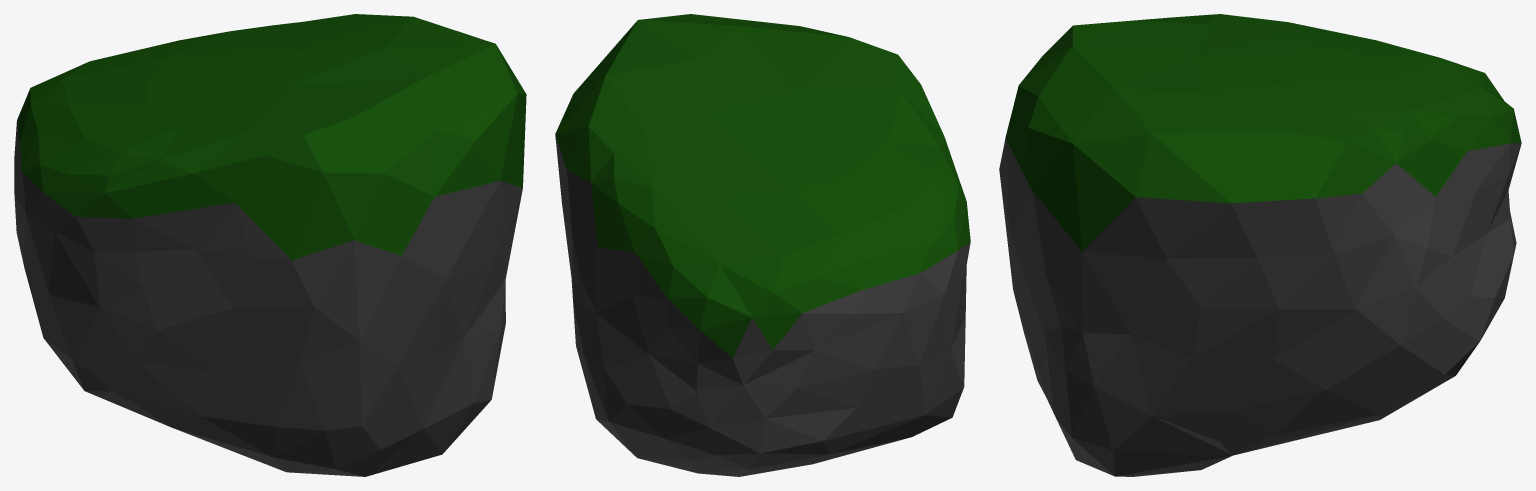
The model's file is HighLandRock4.fbx.
The picture shows the model from 3 angles, left to right: view 1: azimuth 30°, elevation 25°; view 2: azimuth 150°, elevation 25°; view 3: azimuth 270°, elevation 25°; orthographic projection. The views are drawn at different scales.
Parts seen in each view (by area): view 1: HighLandRock4_LOD0; view 2: HighLandRock4_LOD0; view 3: HighLandRock4_LOD0.
Part boxes in pixels (box(x1,y1,x2,y2)): HighLandRock4_LOD0: box(14, 14, 526, 476); HighLandRock4_LOD0: box(555, 14, 970, 476); HighLandRock4_LOD0: box(999, 14, 1521, 476).
Size of what is drawn, in the model's own units: 53.92 by 46.94 by 56.42.
